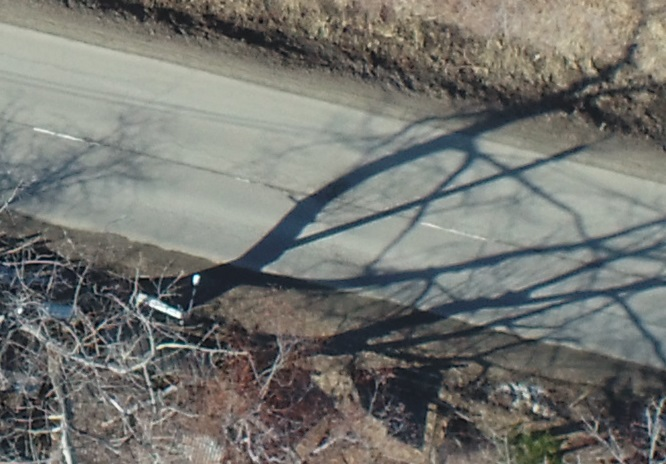opora: (130, 271, 200, 321)
